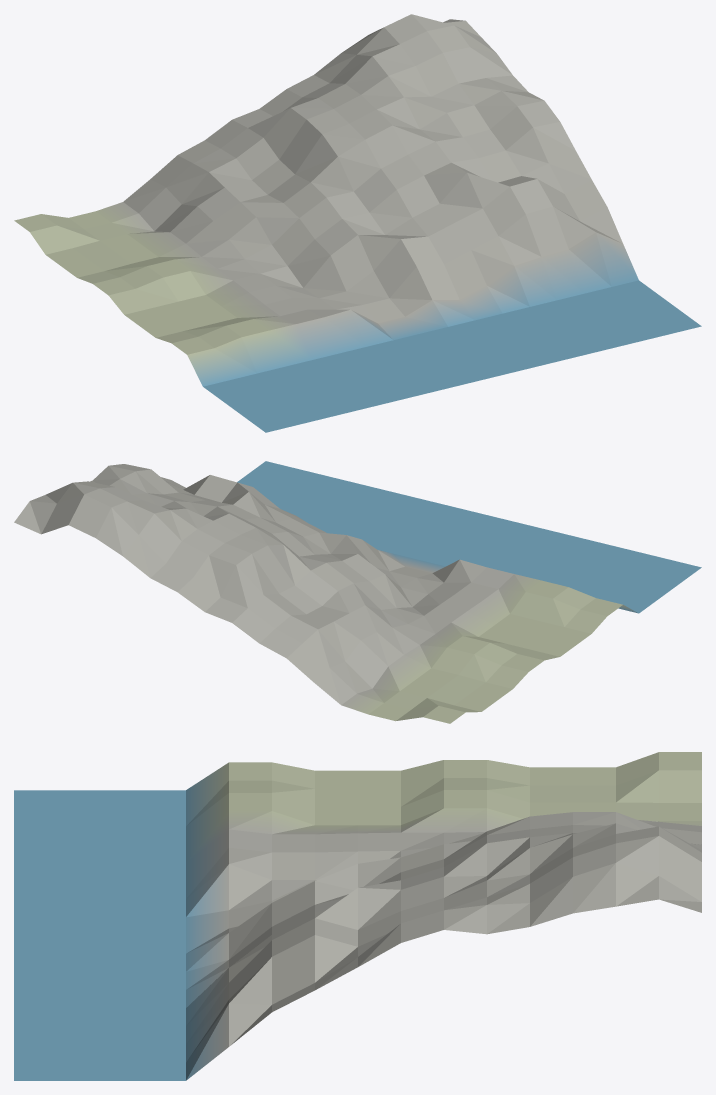
3 renders of one model, top to bottom at view 1: azimuth 30°, elevation 25°; view 2: azimuth 150°, elevation 25°; view 3: azimuth 270°, elevation 25°, orthographic. The views are drawn at different scales.
Size of the model in its own units: 32 by 10.71 by 32.
